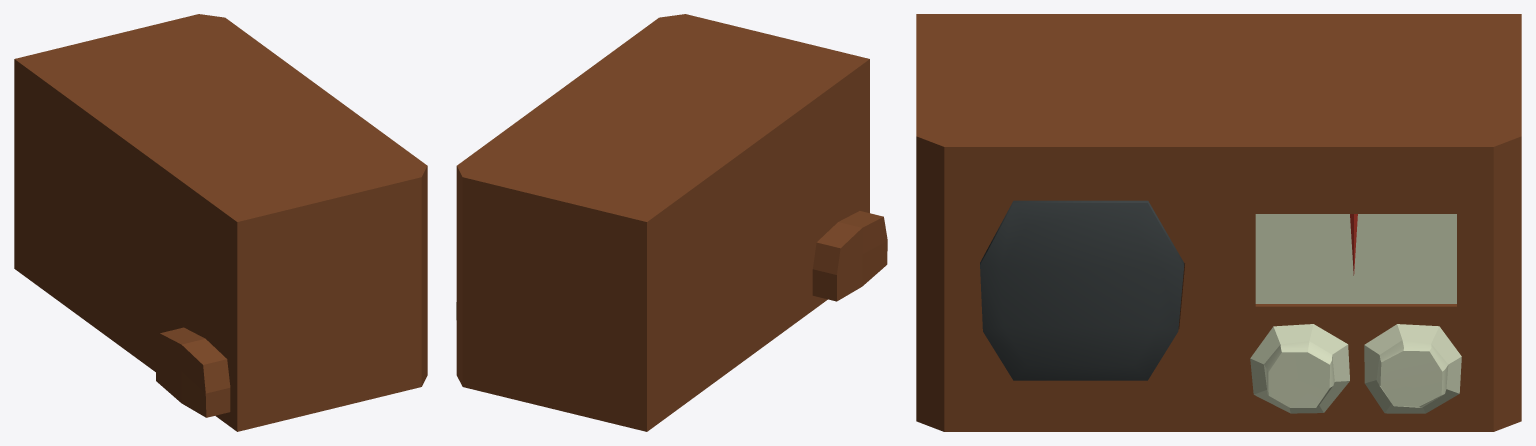
File: Radio_Full.fbx
The picture shows the model from 3 angles, left to right: view 1: azimuth 30°, elevation 25°; view 2: azimuth 150°, elevation 25°; view 3: azimuth 270°, elevation 25°; orthographic projection. The views are drawn at different scales.
Visible parts, largest first — view 1: Radio; view 2: Radio; view 3: Radio, Dial2, Dial1.
Boxes of the visible parts, x1,y1,x2,y2 form: Radio: [14, 14, 427, 431]; Radio: [456, 14, 887, 431]; Radio: [916, 14, 1521, 431]; Dial2: [1364, 324, 1461, 413]; Dial1: [1250, 324, 1349, 413].
Size of the model in its own units: 66.89 by 42.41 by 34.74.
